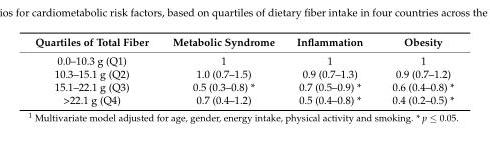table: (34, 35, 453, 106)
table column: (159, 35, 285, 106), (34, 35, 159, 106), (285, 35, 376, 106), (376, 35, 453, 106)
table column header: (34, 35, 453, 50)
table row: (34, 50, 453, 66), (34, 35, 453, 50), (34, 92, 453, 106), (34, 66, 453, 79), (34, 79, 453, 92)
